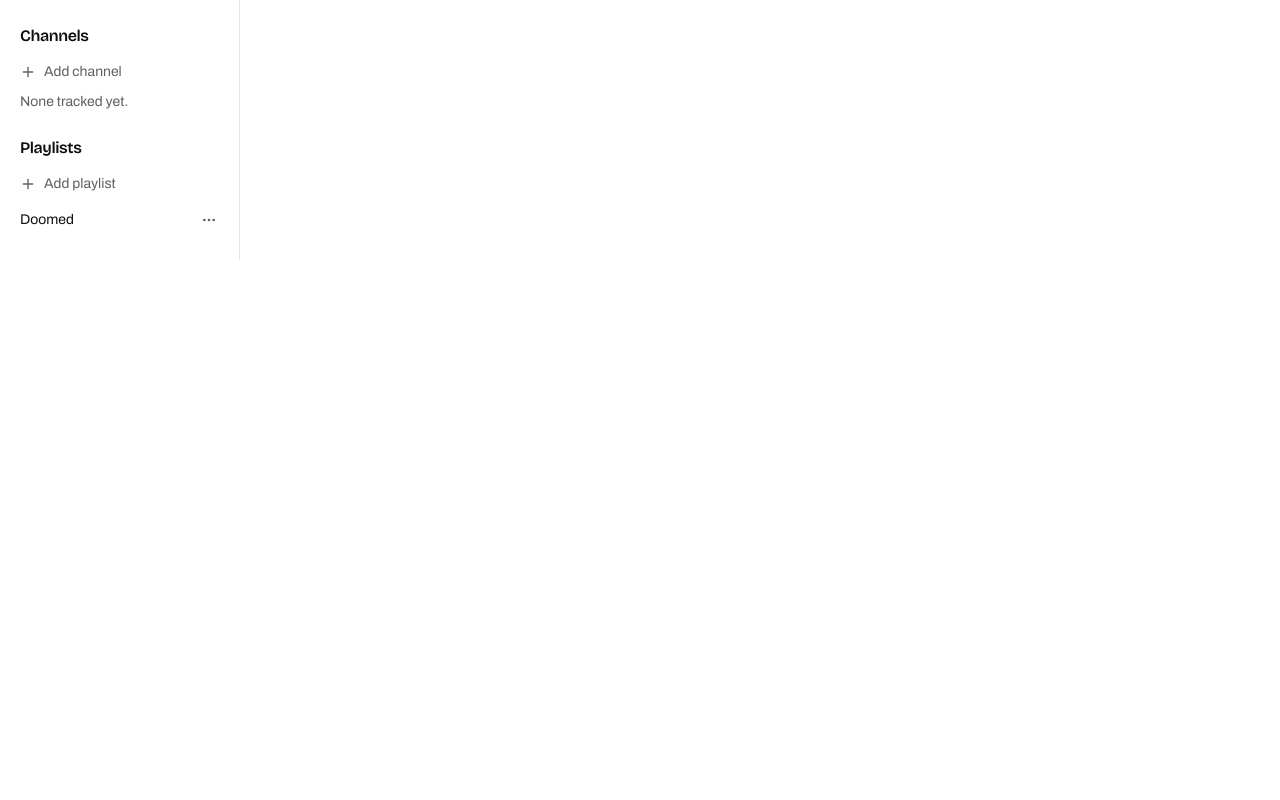
Sidebar › deletes a playlist after confirmation
Click the button named "Actions for Doomed": [209, 220] box [195, 206, 223, 234]
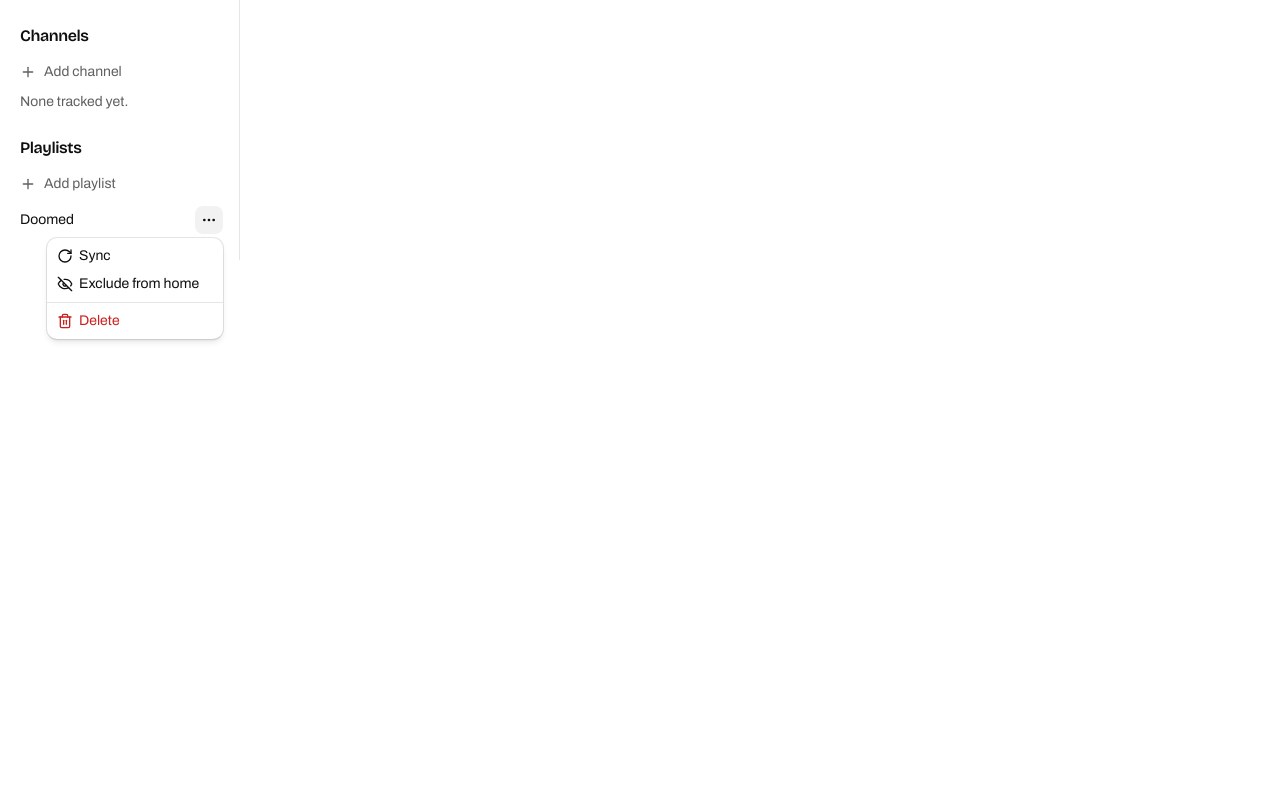
Click the menu item "Delete": [88, 321] box [57, 313, 120, 329]
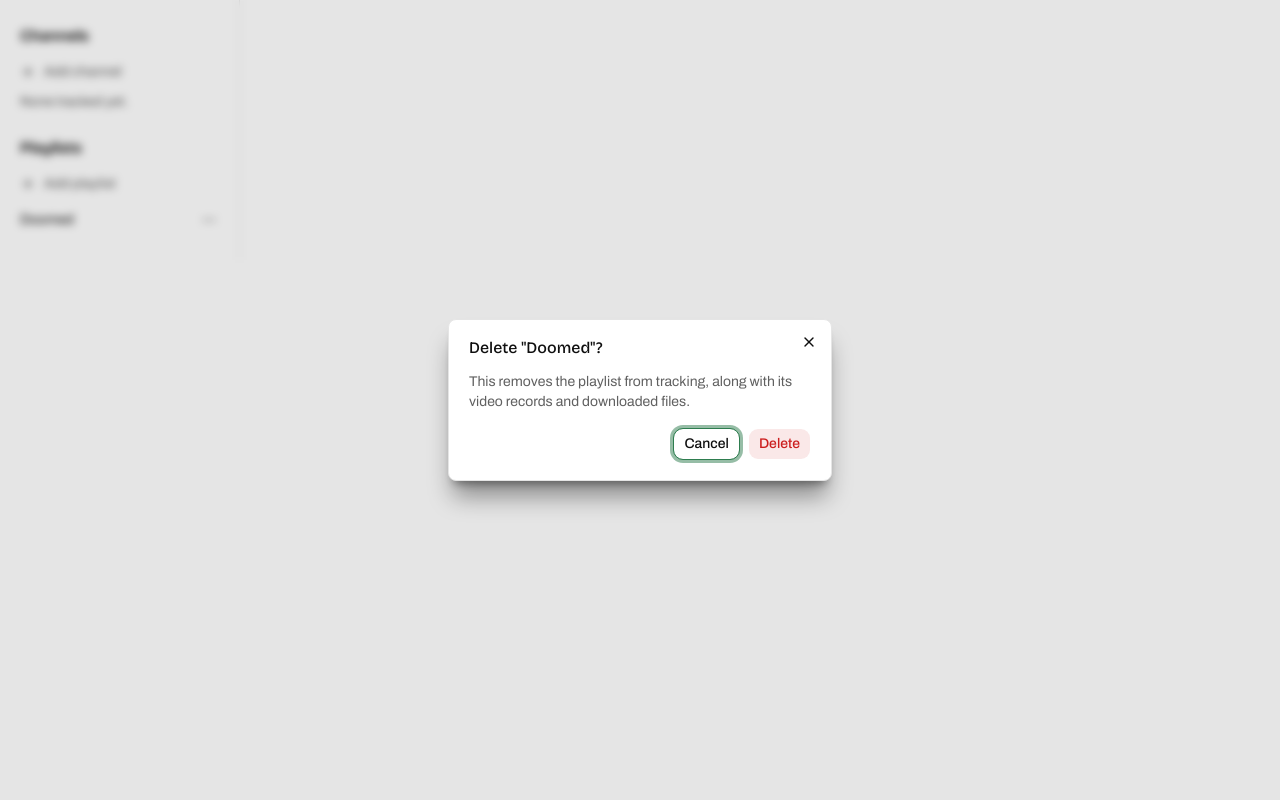
Expected: the heading "Delete \"Doomed\"?" is shown, [469, 338, 602, 357]
Click the button "Delete": [779, 444] box [748, 428, 811, 460]
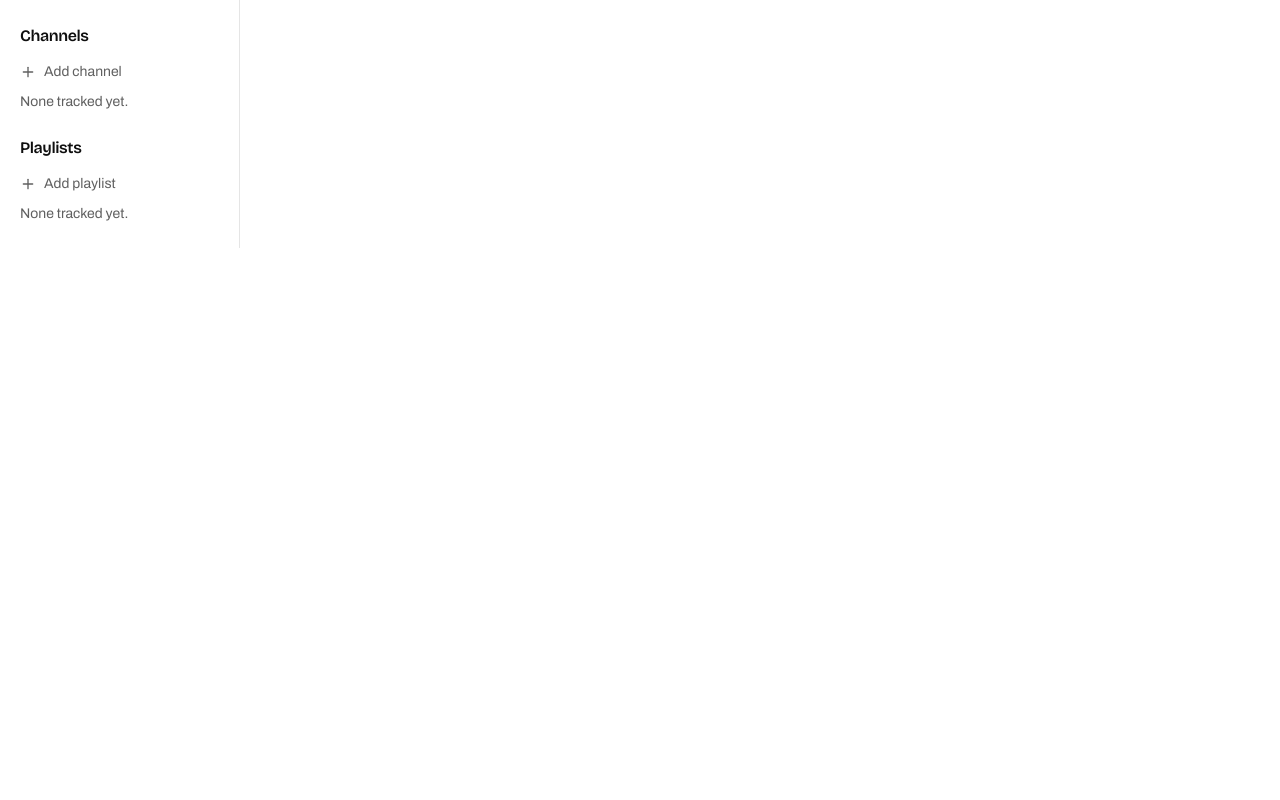
Expected: the link "Doomed" is gone
